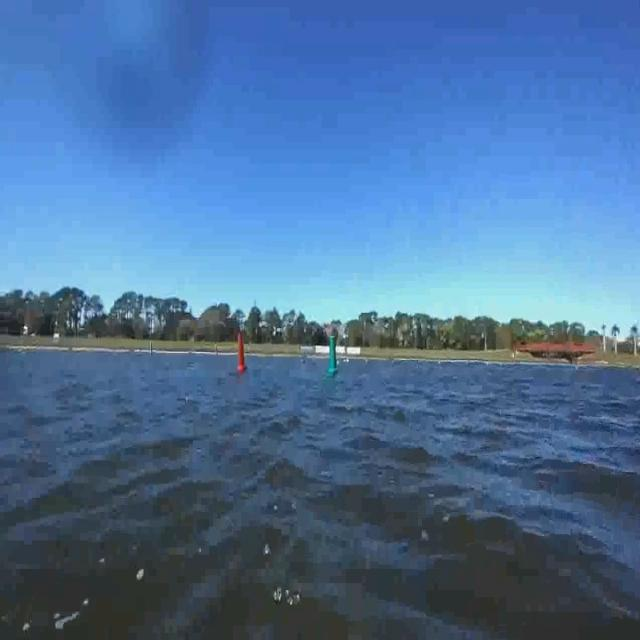green-column-buoy: (323, 332, 345, 386)
red-column-buoy: (237, 314, 252, 373)
